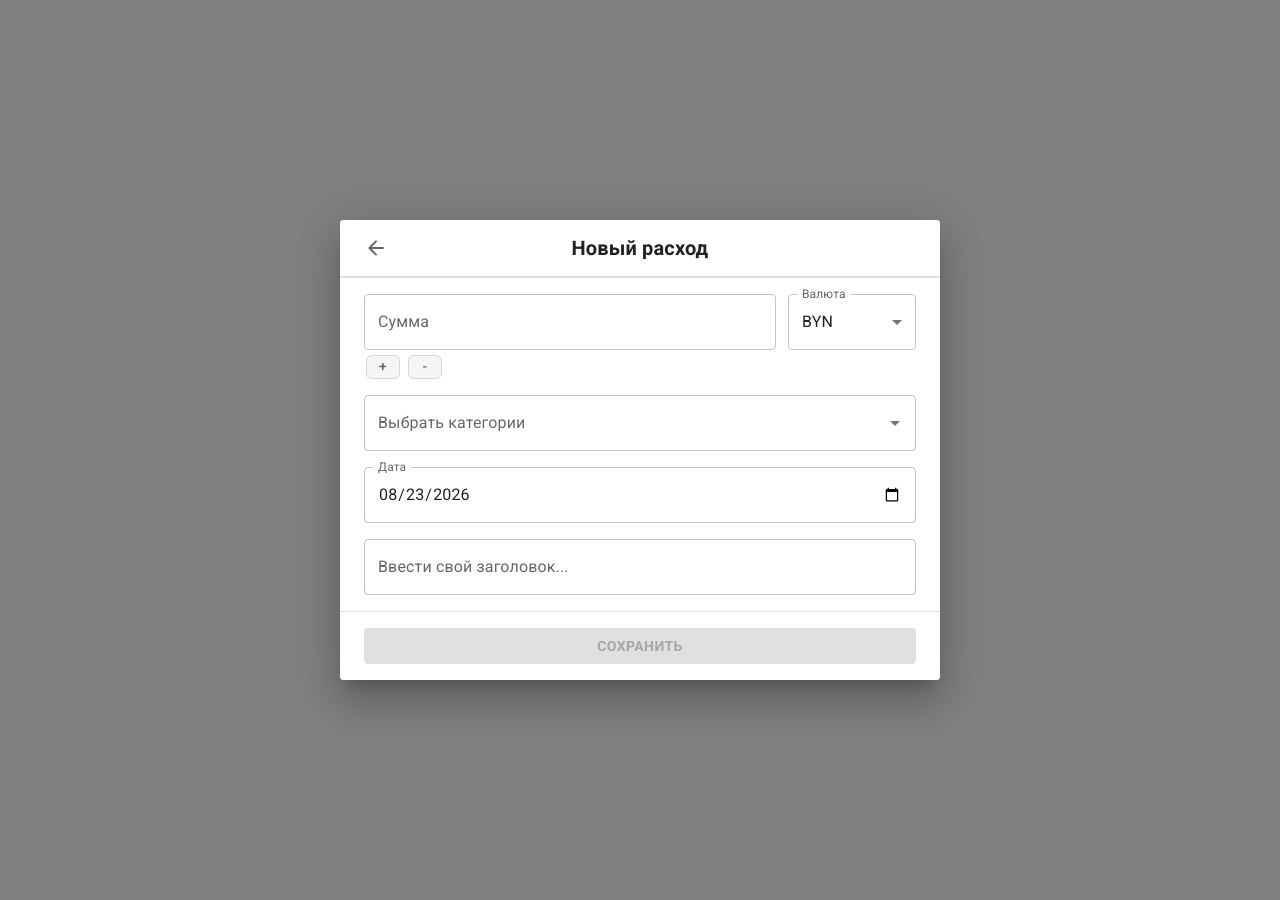
Test: ExpenseFormModal › shows user-friendly error for rate_not_available on submit
The image size is (1280, 900).
Type "25" into the field labelled "Сумма".
click(570, 322); type("25")  # box [364,294,776,350]
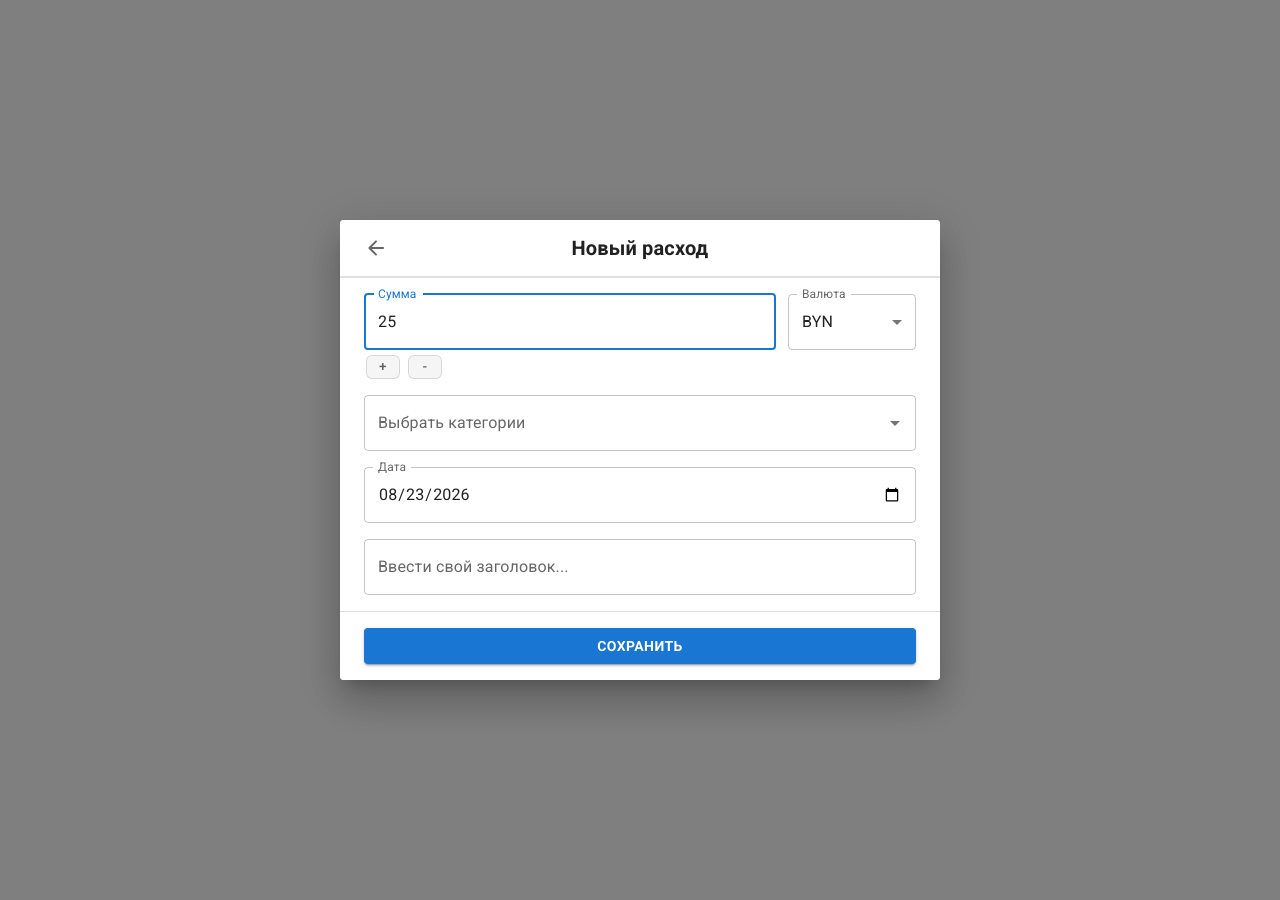
Click the button "Сохранить".
click(640, 646)  # box [364,628,916,664]
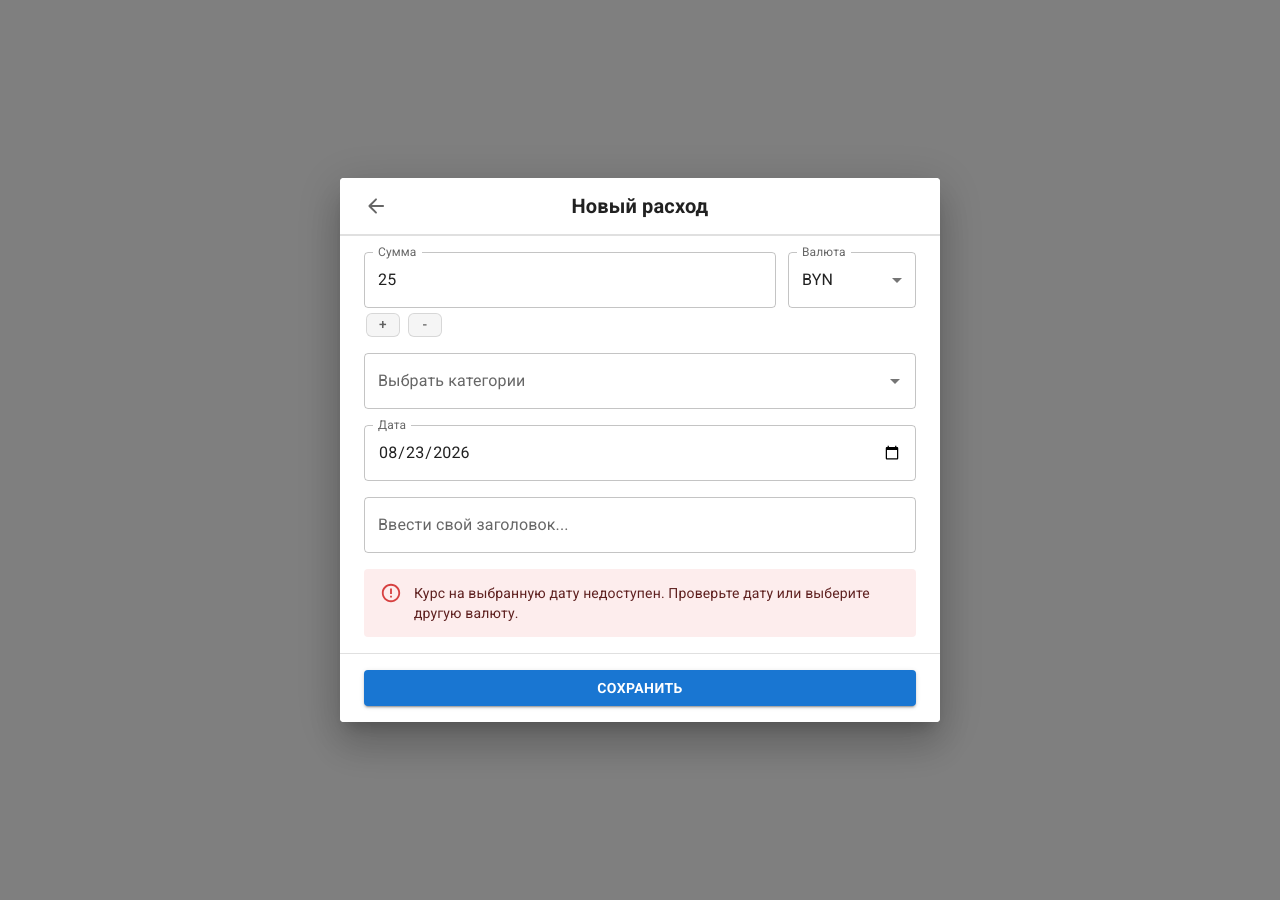
Check: the text "Курс на выбранную дату недоступен. Проверьте дату или выберите другую валюту." is shown, box [414,575,900,631]
